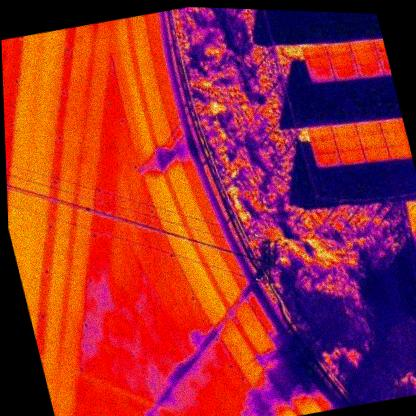Normal: (313, 150, 341, 171), (334, 134, 362, 154), (362, 144, 390, 164), (300, 41, 328, 61), (325, 39, 353, 59), (352, 49, 381, 68), (355, 119, 382, 139), (332, 64, 360, 83), (357, 61, 385, 80), (338, 148, 366, 167), (349, 36, 377, 55), (308, 124, 334, 144), (358, 131, 385, 150), (305, 54, 332, 73), (310, 138, 338, 156), (328, 53, 356, 71), (332, 122, 358, 141), (308, 67, 335, 85), (382, 130, 407, 149), (386, 143, 411, 162), (379, 116, 403, 135)
